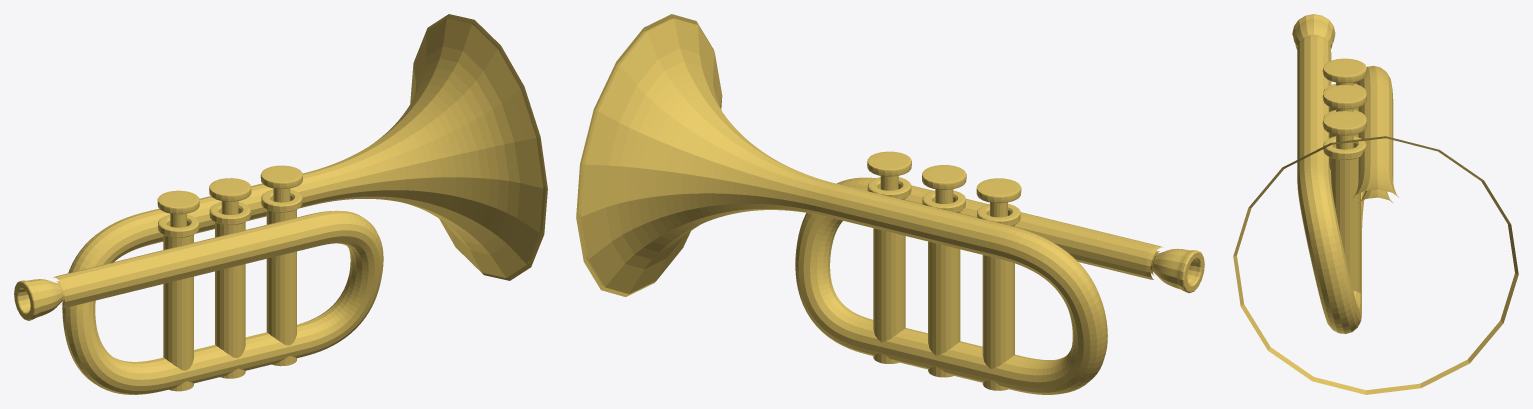
3 views of the same model, side by side, from view 1: azimuth 30°, elevation 25°; view 2: azimuth 150°, elevation 25°; view 3: azimuth 270°, elevation 25° (orthographic). The views are drawn at different scales.
Parts seen in each view (by area): view 1: Trumpet.2; view 2: Trumpet.2; view 3: Trumpet.2.
Boxes of the visible parts, x1,y1,x2,y2 form: Trumpet.2: [14, 14, 547, 394]; Trumpet.2: [576, 14, 1204, 394]; Trumpet.2: [1233, 14, 1518, 394].
Size of the model in its own units: 387 by 209 by 189.
